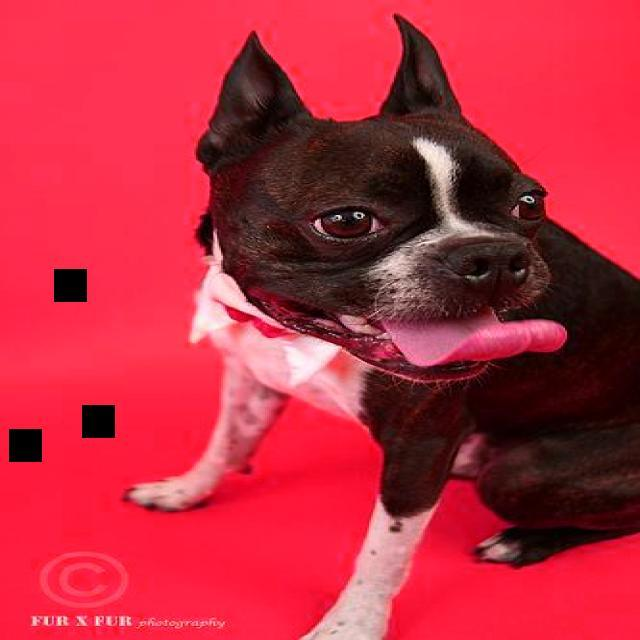adult_dog: (119, 11, 640, 640)
